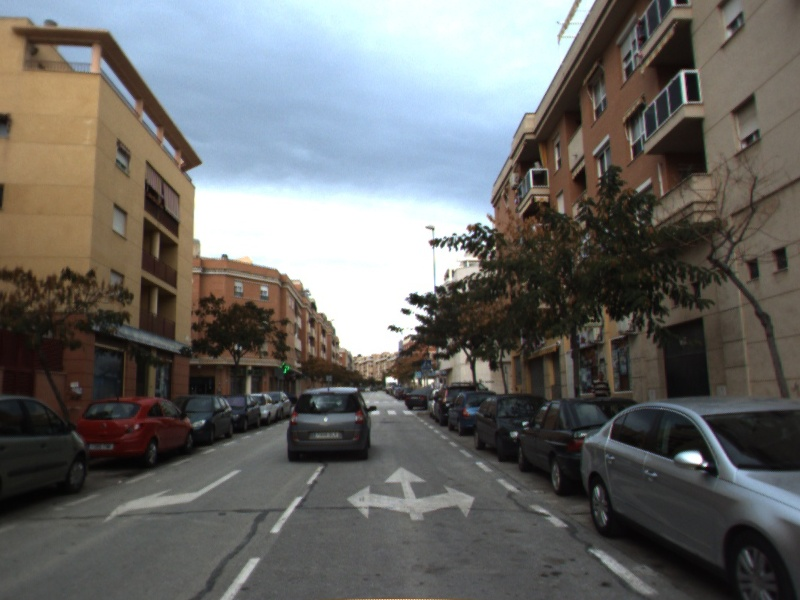STRAIGHT_LEFT_RIGHT: (344, 465, 477, 522)
